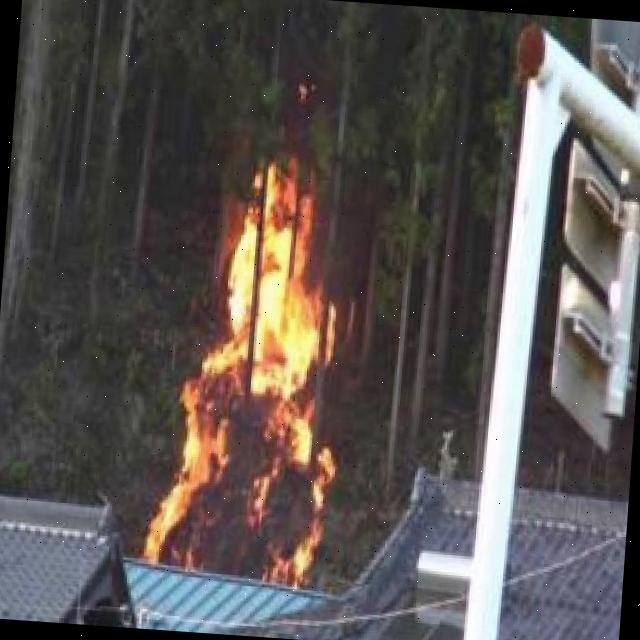fire: (160, 133, 350, 582)
